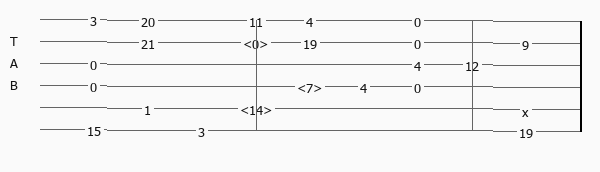0: (90, 58, 101, 71), (90, 80, 101, 93), (414, 36, 425, 49), (414, 80, 425, 93), (414, 14, 425, 27)
1: (144, 102, 155, 115)
11: (249, 14, 267, 27)
12: (465, 58, 483, 71)
15: (87, 124, 105, 137)
19: (303, 36, 321, 49), (519, 124, 537, 137)
20: (141, 14, 159, 27)
21: (141, 36, 159, 49)
3: (90, 14, 101, 27), (198, 124, 209, 137)
4: (306, 14, 317, 27), (360, 80, 371, 93), (414, 58, 425, 71)
9: (522, 36, 533, 49)
harmonic: (240, 102, 276, 115), (243, 36, 272, 49), (297, 80, 326, 93)
x: (522, 103, 533, 114)
